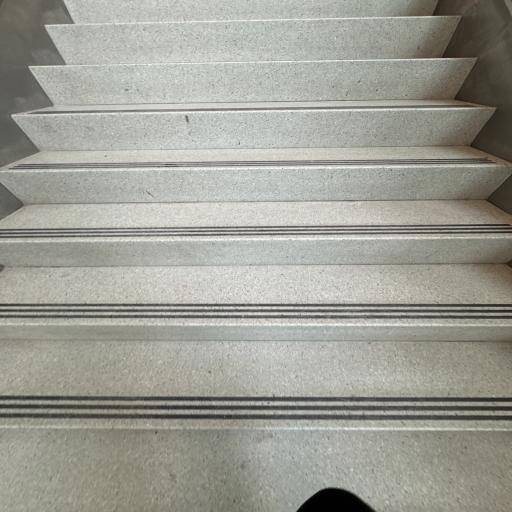Stairs: (0, 0, 512, 512), (0, 200, 512, 302)
